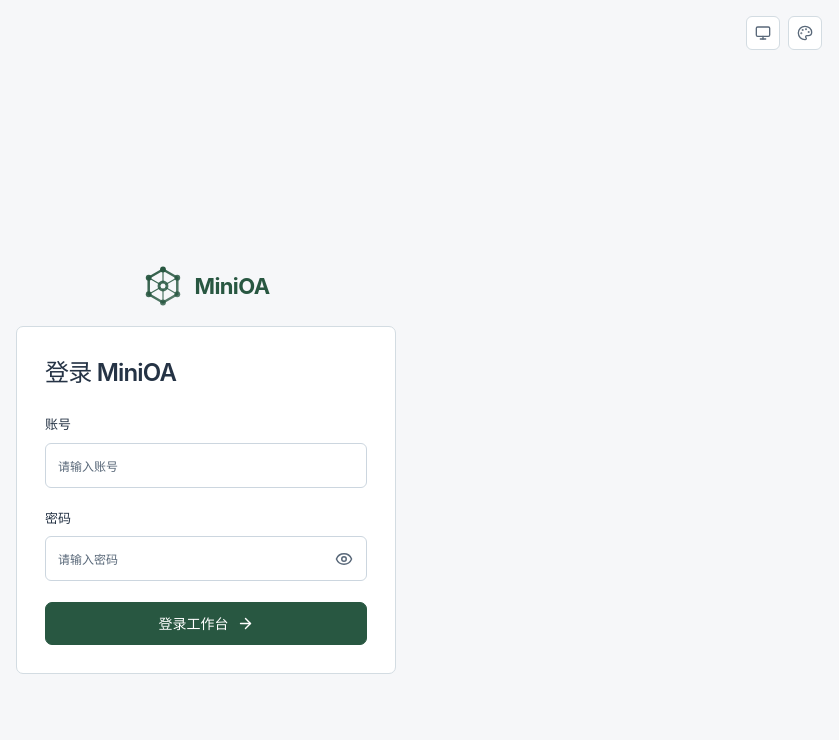
Scenario: authentication pages › shows server login errors
Type "admin" into the field labelled "账号" at (206, 465), box [45,442,367,488]
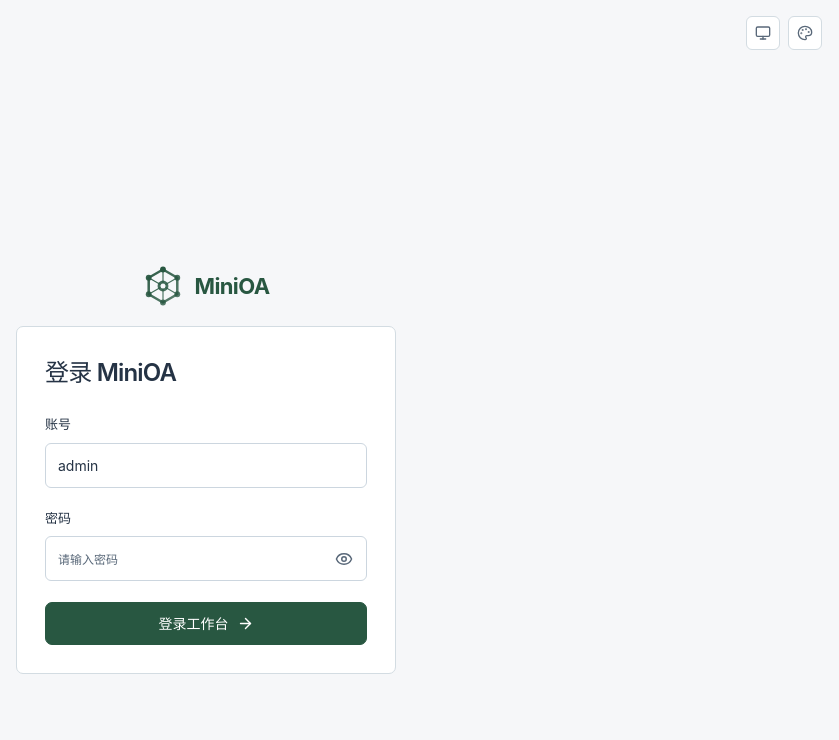
Type "wrong" into the password field labelled "密码" at (206, 558), box [45,536,367,581]
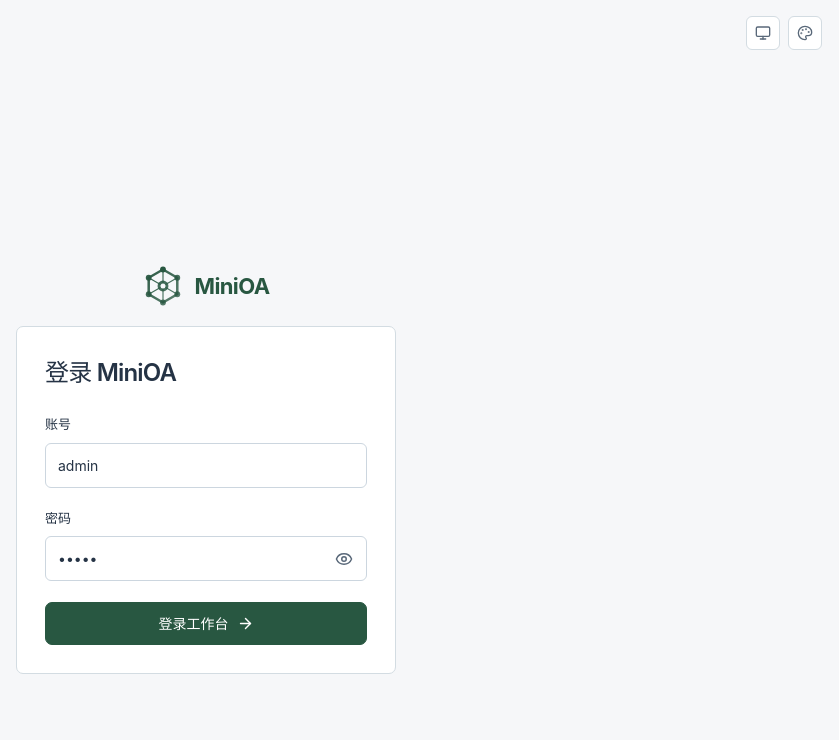
Click the button "登录工作台" at (206, 624), box [45,602,367,645]
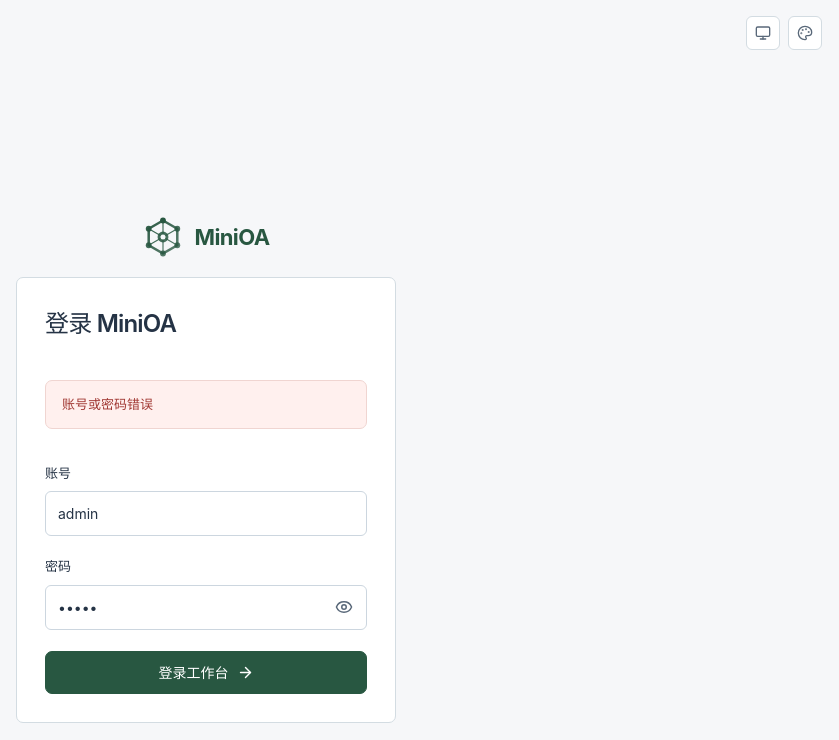
Expected: the message reads "账号或密码错误", [62,396,153,412]
